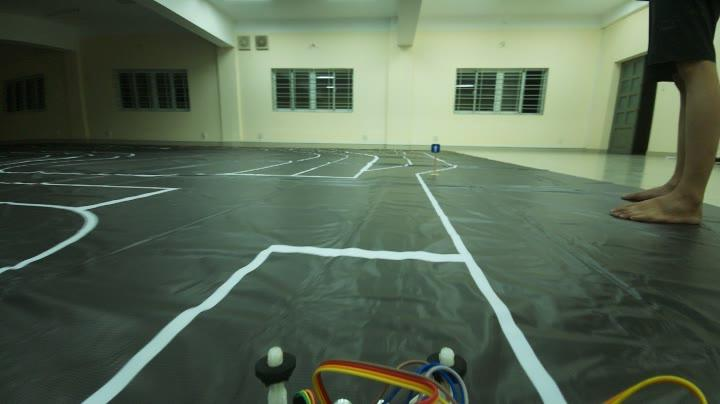onewayroad: (428, 139, 442, 158)
